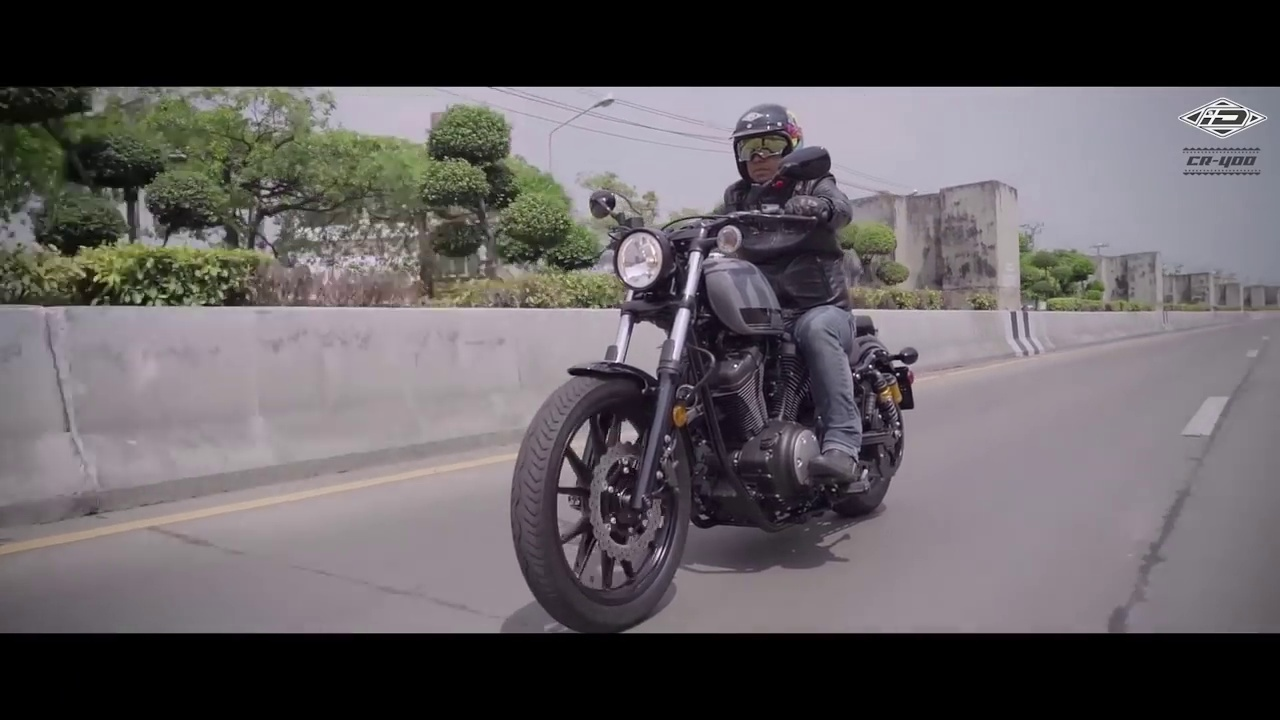helmet: (722, 100, 805, 162)
